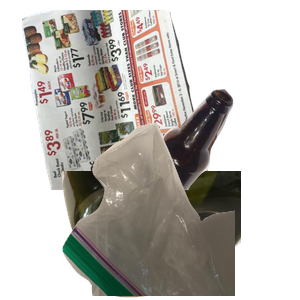glass: (130, 87, 300, 267)
paper: (19, 10, 223, 190)
plastic: (60, 171, 300, 300)
trash: (60, 120, 300, 300)
